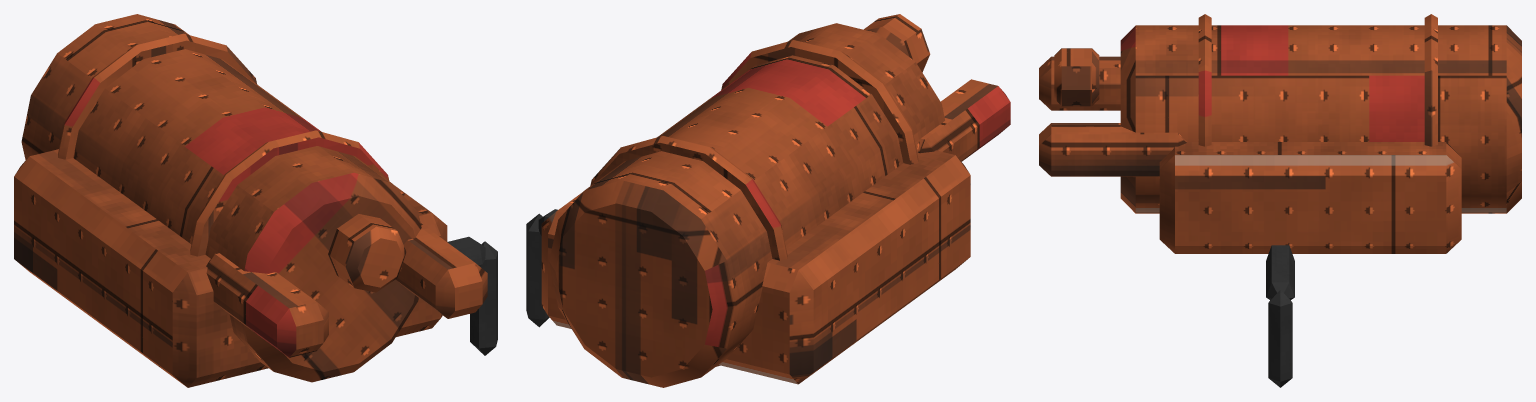
The model's file is enemy_rustcrawler.fbx.
3 renders of one model, left to right at view 1: azimuth 30°, elevation 25°; view 2: azimuth 150°, elevation 25°; view 3: azimuth 270°, elevation 25°, orthographic. The views are drawn at different scales.
Visible parts, largest first — view 1: Rustcrawler_Body, Rustcrawler_Leg; view 2: Rustcrawler_Body, Rustcrawler_Leg; view 3: Rustcrawler_Body, Rustcrawler_Leg.
Part boxes in pixels (x1=…): Rustcrawler_Body: x1=14, y1=14, x2=487, y2=387; Rustcrawler_Leg: x1=447, y1=236, x2=497, y2=355; Rustcrawler_Body: x1=541, y1=14, x2=1010, y2=387; Rustcrawler_Leg: x1=526, y1=209, x2=557, y2=327; Rustcrawler_Body: x1=1039, y1=14, x2=1521, y2=253; Rustcrawler_Leg: x1=1266, y1=245, x2=1294, y2=387.
Bounding box in the file's own units: 2.53 × 1.94 × 3.2.
